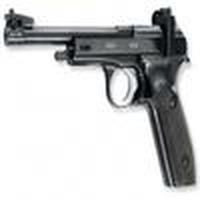gun: (3, 9, 199, 191)
